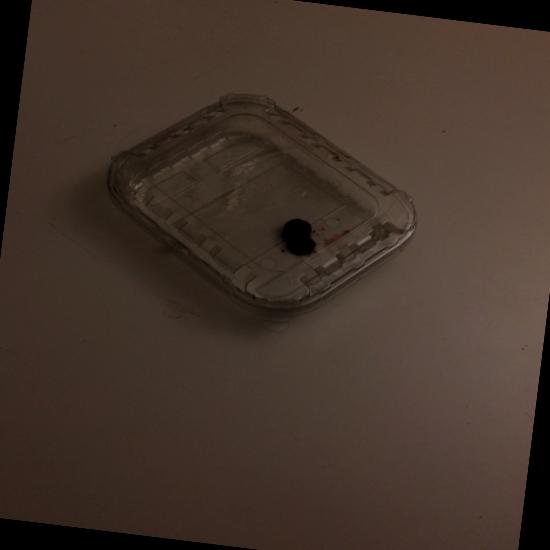Disposable food container: (107, 93, 417, 332)
Food waste: (284, 219, 316, 255)
